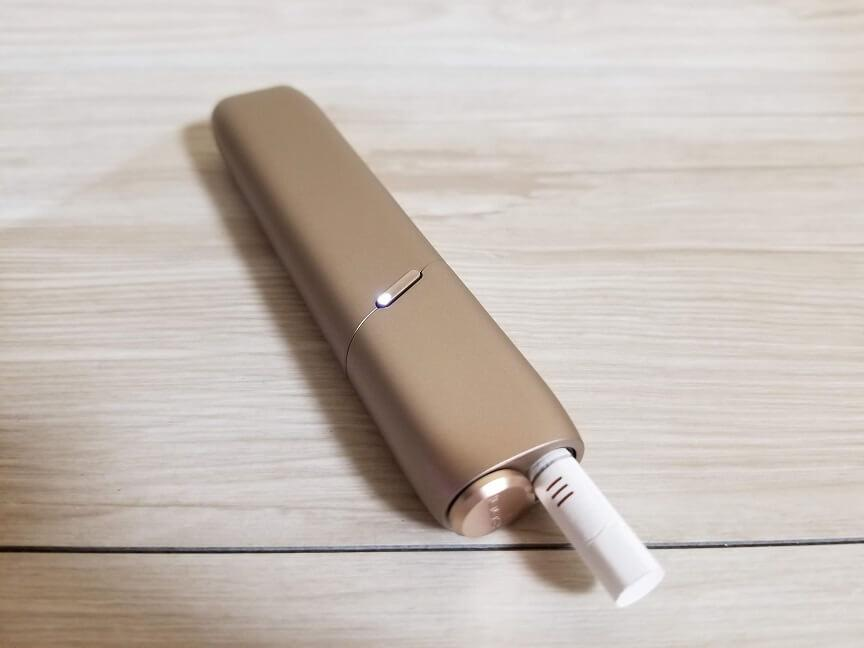iqos: (212, 86, 663, 606)
